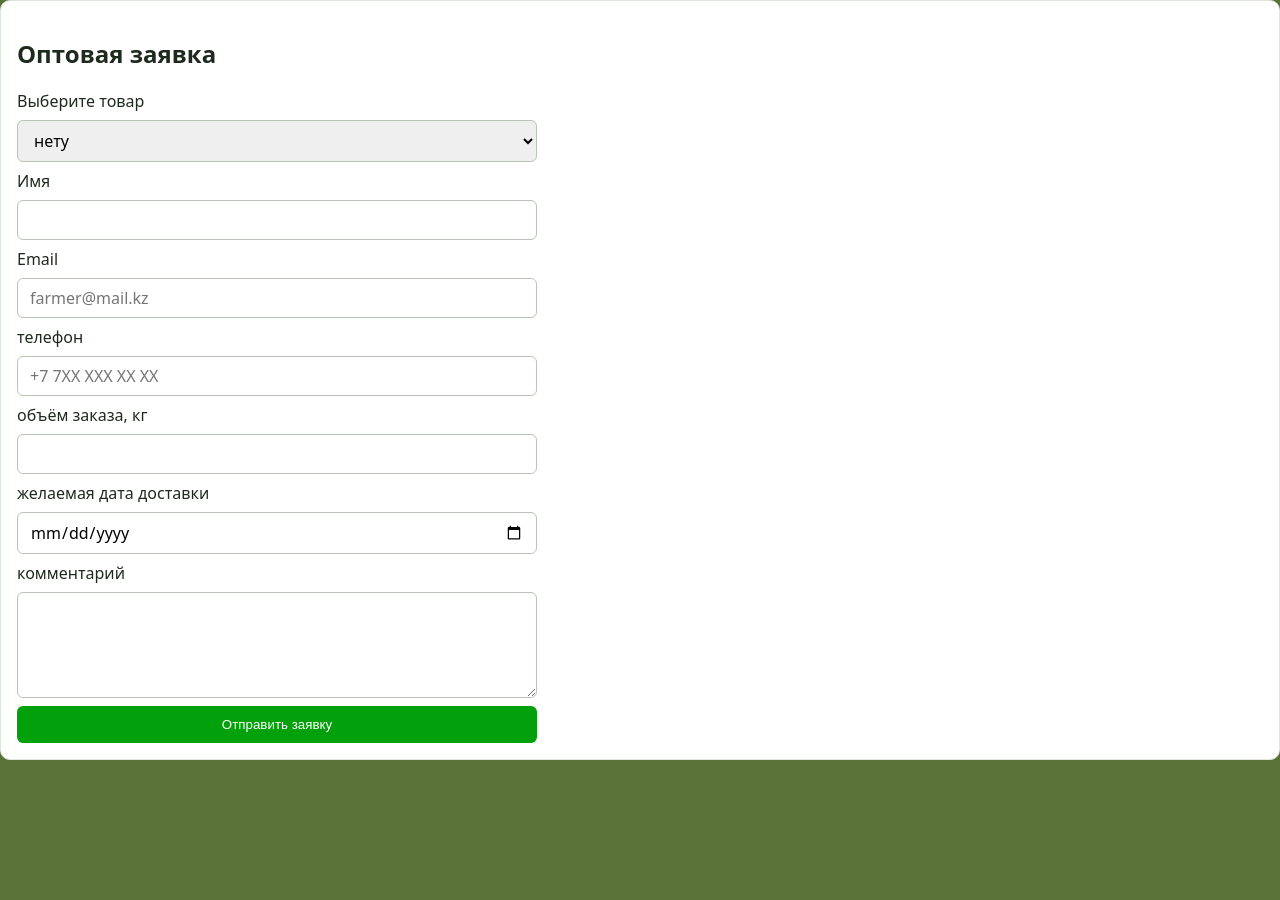
Test: Оптовая заявка — MSW › передаёт JWT, товар и данные, очищает успешную форму
The width and height of the screenshot is (1280, 900).
Select "Мёд гречишный" in the dropdown labelled "Выберите товар" at x=277, y=141, box x1=17 y1=120 x2=537 y2=162
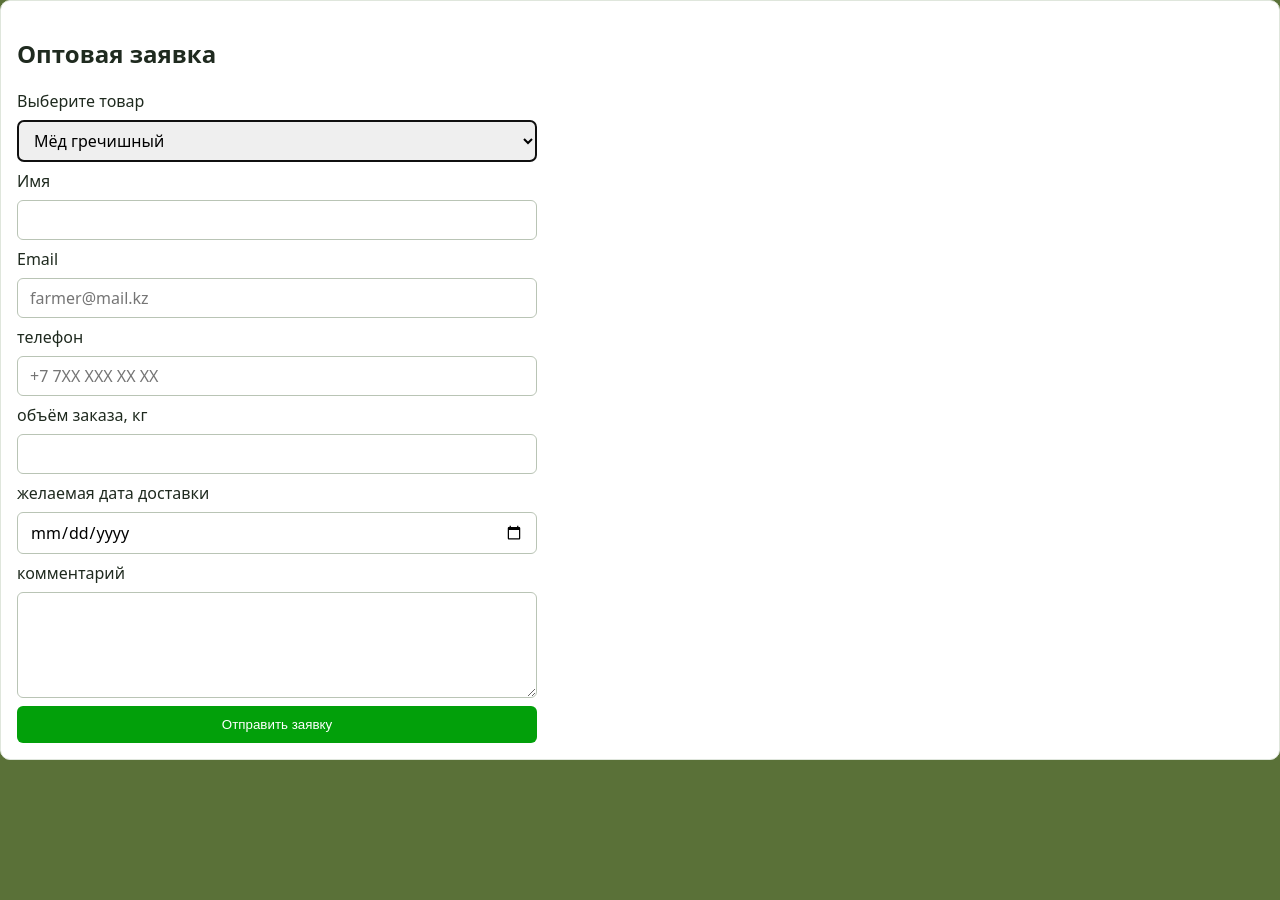
Type "Покупатель" into the field labelled "Имя".
click(277, 220); type("Покупатель")  # box x1=17 y1=200 x2=537 y2=240
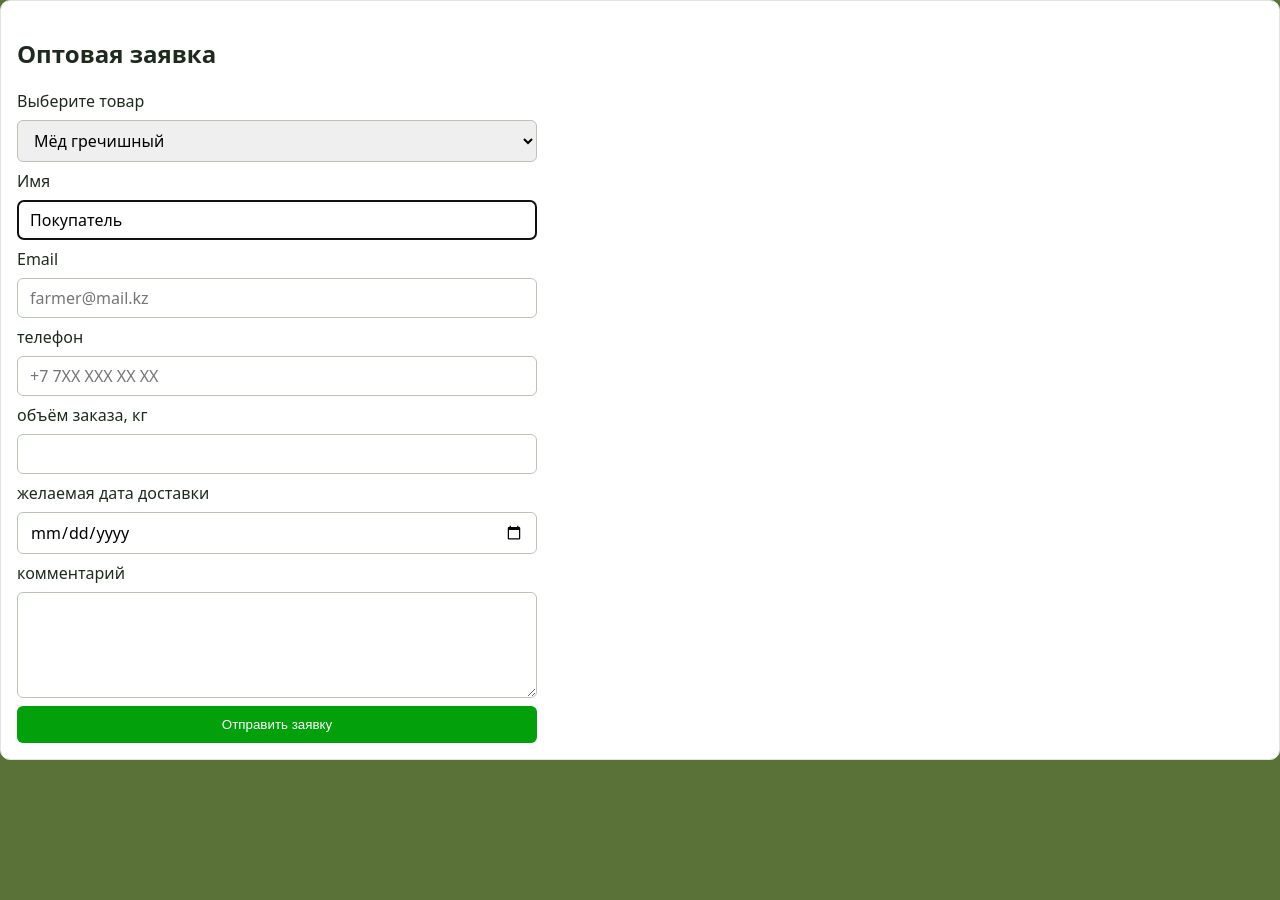
Type "buyer@example.test" into the field labelled "Email".
click(277, 298); type("buyer@example.test")  # box x1=17 y1=278 x2=537 y2=318
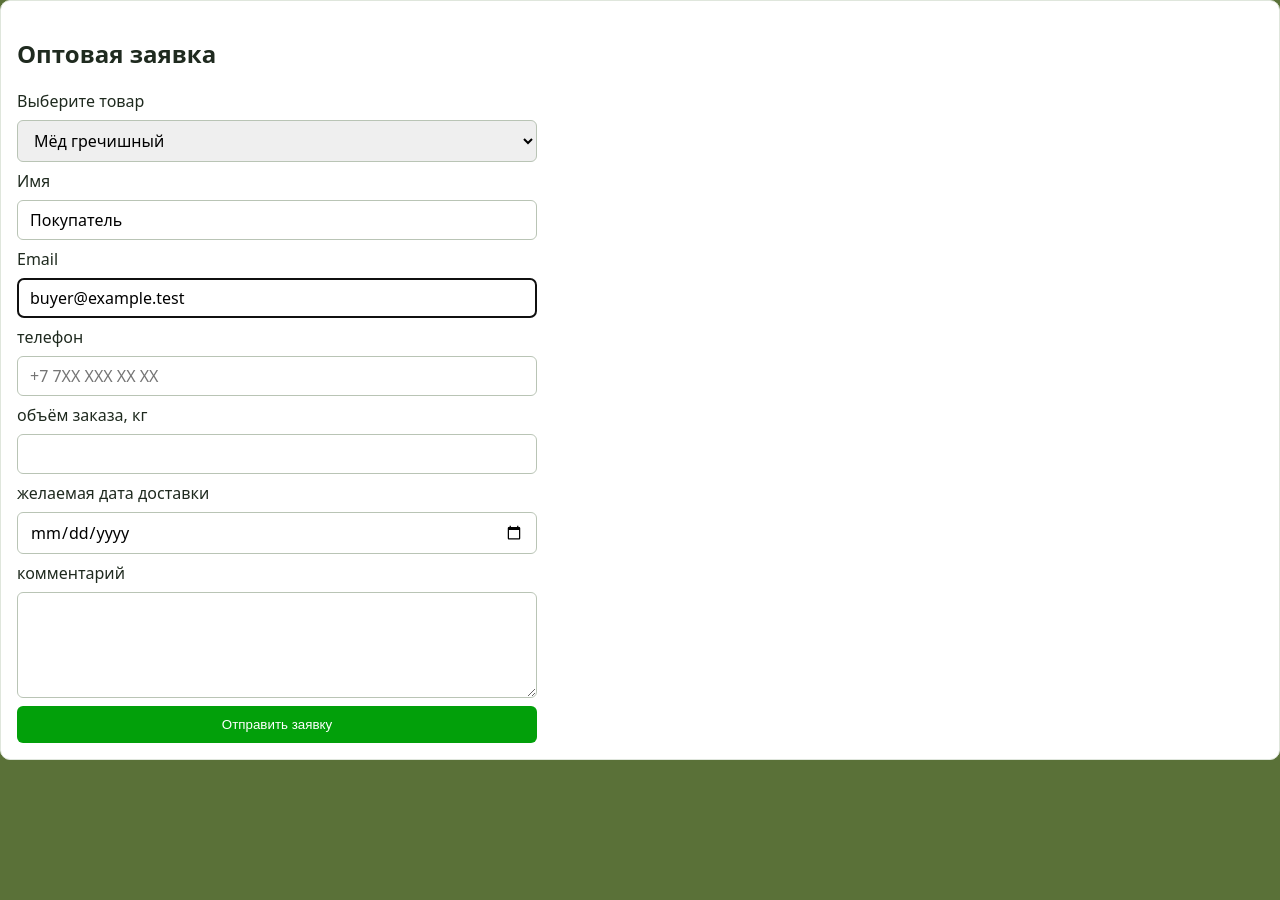
Type "10" into the number field labelled "объём заказа, кг".
click(277, 454); type("10")  # box x1=17 y1=434 x2=537 y2=474
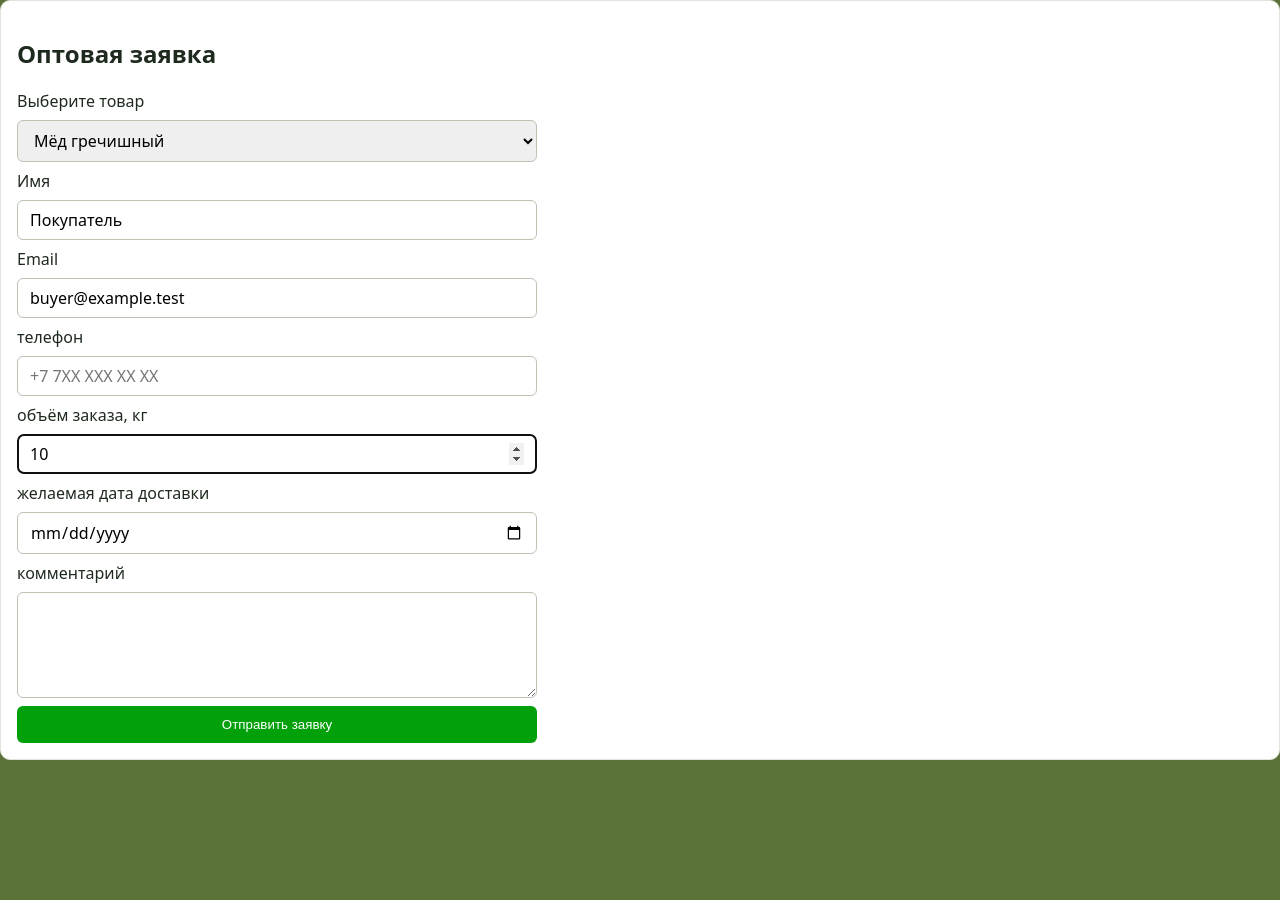
Click the button "Отправить заявку".
click(277, 724)  # box x1=17 y1=706 x2=537 y2=743
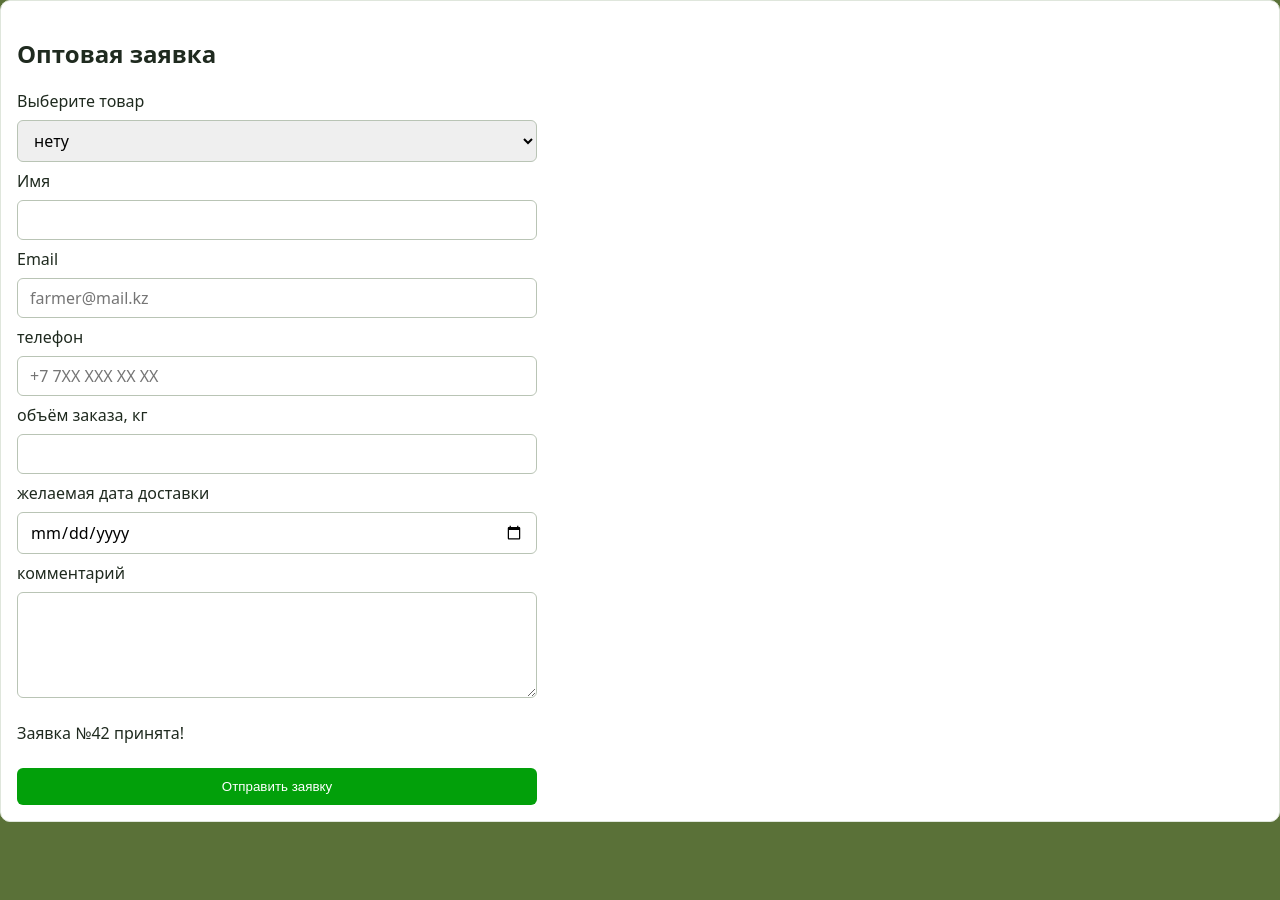
Check: the message reads "Заявка №42 принята!", box x1=17 y1=722 x2=184 y2=744
Check: the field labelled "Имя" is empty, box x1=17 y1=200 x2=537 y2=240
